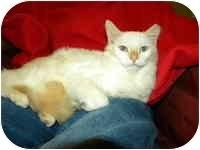siamese: (104, 16, 165, 77)
